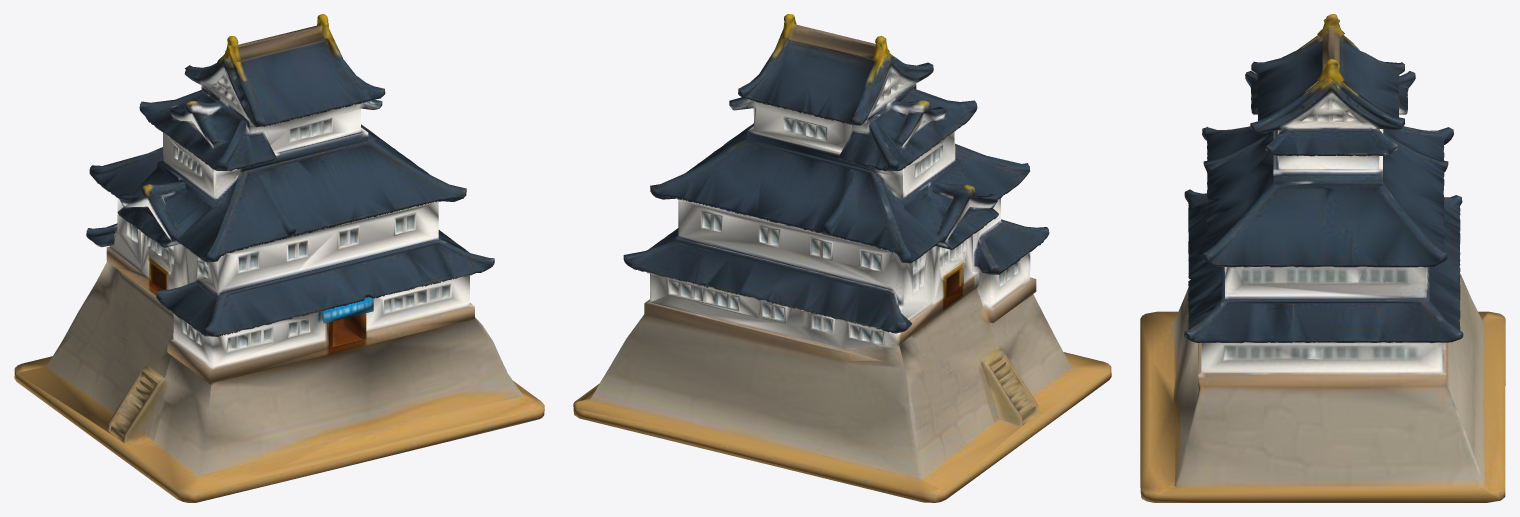
Rendered from lm_himeji.glb.
3 views of the same model, side by side, from view 1: azimuth 30°, elevation 25°; view 2: azimuth 150°, elevation 25°; view 3: azimuth 270°, elevation 25° (orthographic). The views are drawn at different scales.
Parts seen in each view (by area): view 1: node_0; view 2: node_0; view 3: node_0.
Boxes of the visible parts, bbox=[...] form: node_0: bbox=[14, 14, 544, 502]; node_0: bbox=[573, 14, 1111, 502]; node_0: bbox=[1140, 14, 1505, 502].
Size of the model in its own units: 0.7539 by 0.7238 by 0.636.
1 material, 1 textured.
